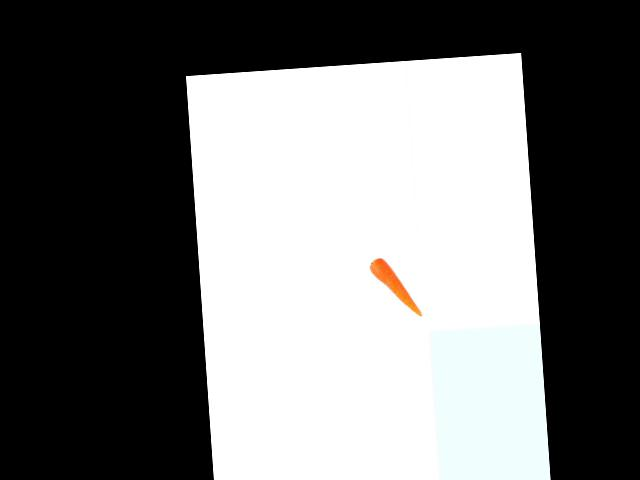carrot: (368, 254, 426, 323)
